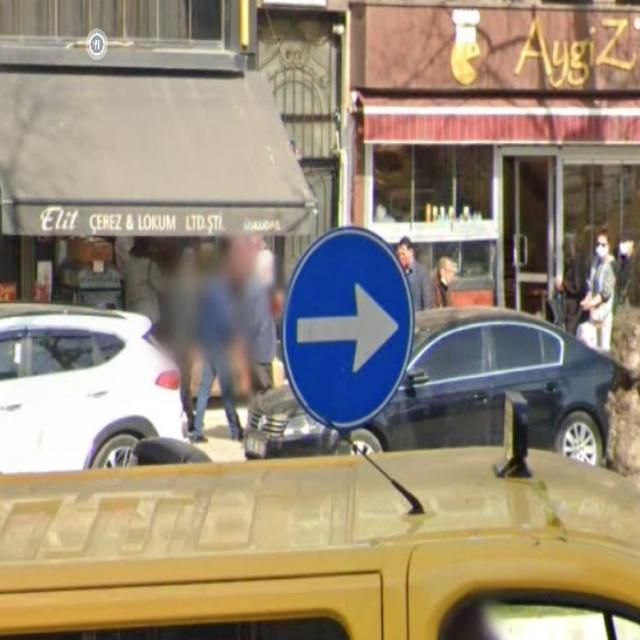Turn Right: (283, 225, 414, 432)
